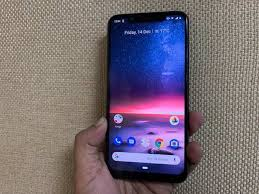nokia: (102, 10, 192, 183)
